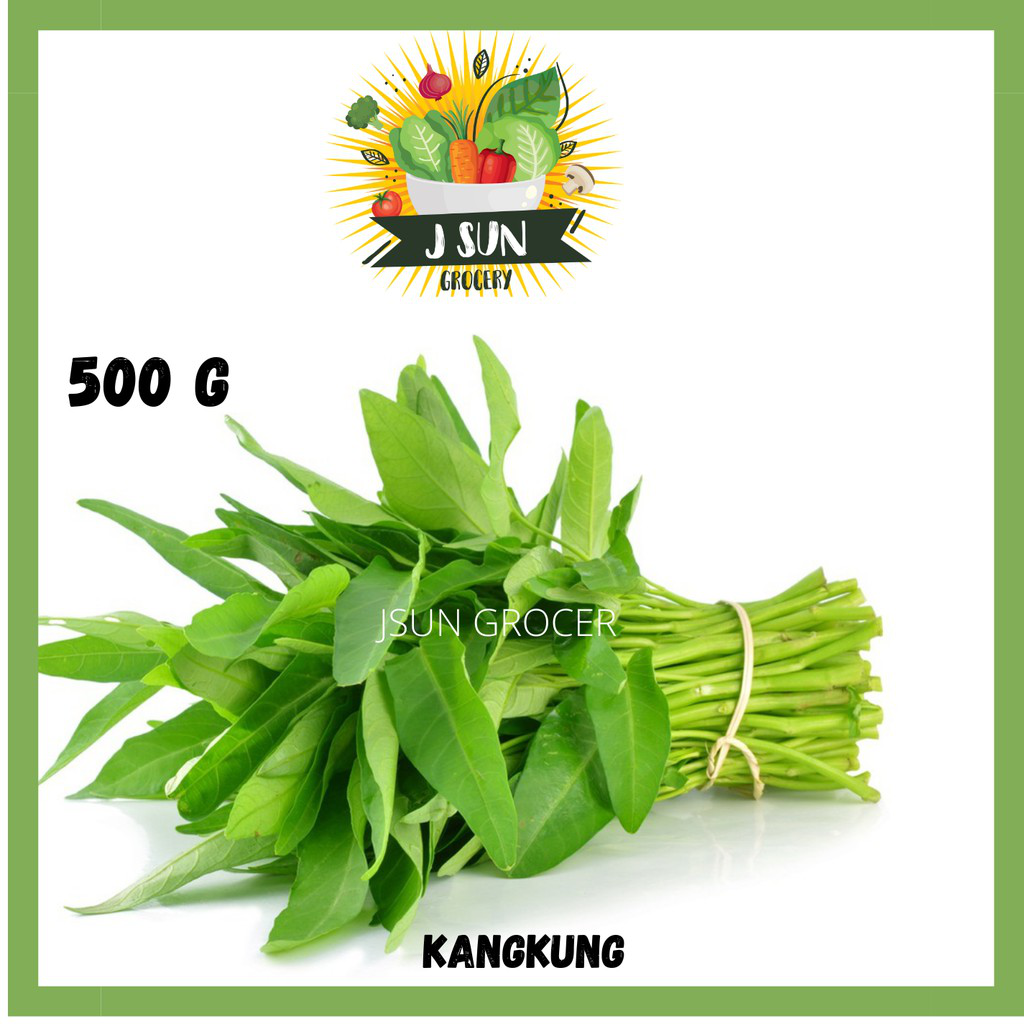Kangkung: (169, 469, 939, 902)
